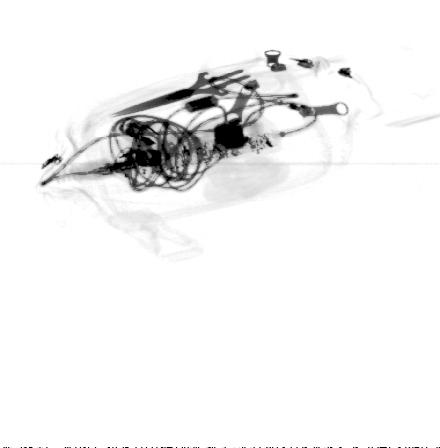Scissors: (109, 53, 288, 118)
